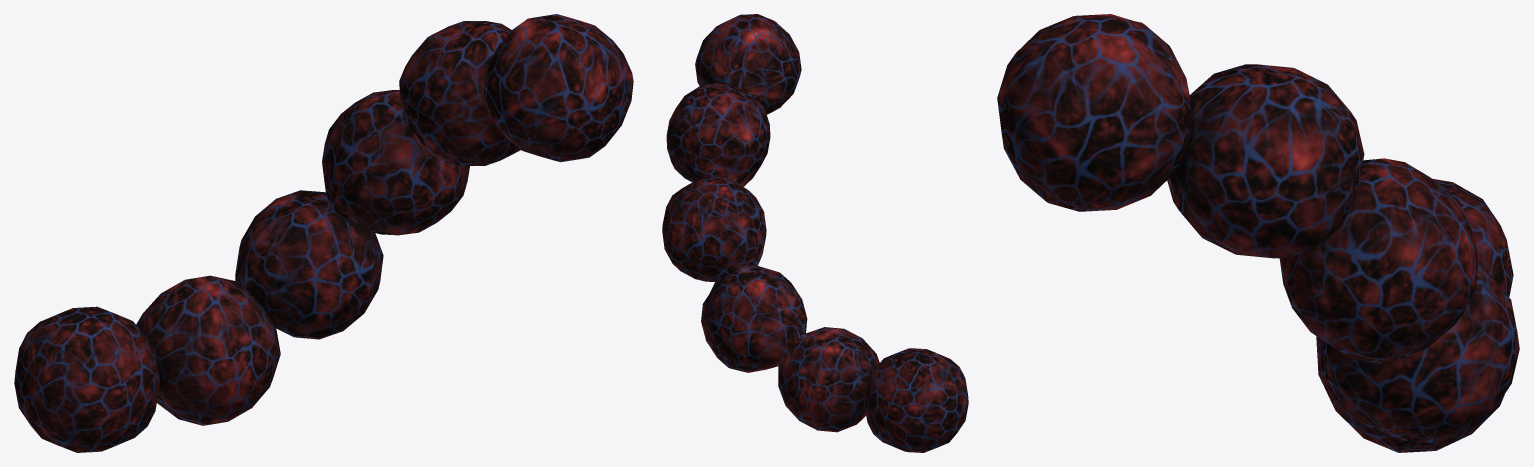
File: Microbe08.FBX
3 views of the same model, side by side, from view 1: azimuth 30°, elevation 25°; view 2: azimuth 150°, elevation 25°; view 3: azimuth 270°, elevation 25° (orthographic). The views are drawn at different scales.
Parts seen in each view (by area): view 1: Microbe08; view 2: Microbe08; view 3: Microbe08.
Part boxes in pixels (x1=…): Microbe08: x1=14, y1=14, x2=633, y2=452; Microbe08: x1=662, y1=14, x2=968, y2=452; Microbe08: x1=997, y1=14, x2=1519, y2=452.
Bounding box in the file's own units: 7.49 × 6.36 × 5.21.
